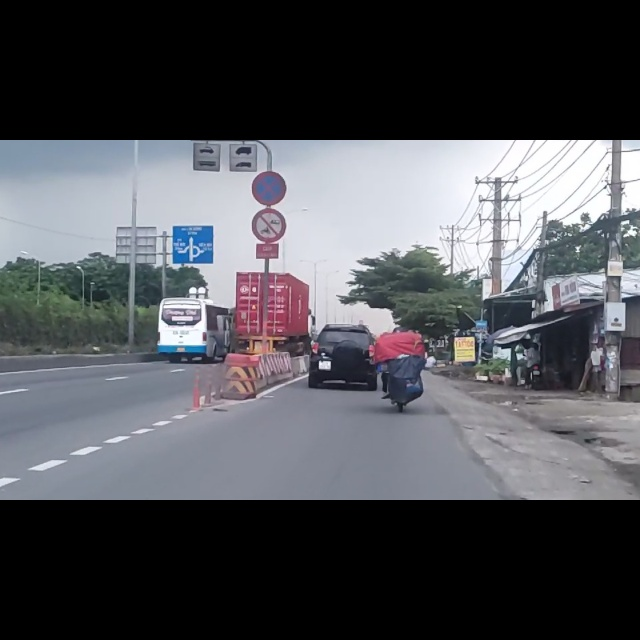bien_cam: (251, 55, 288, 117), (251, 121, 287, 182)
